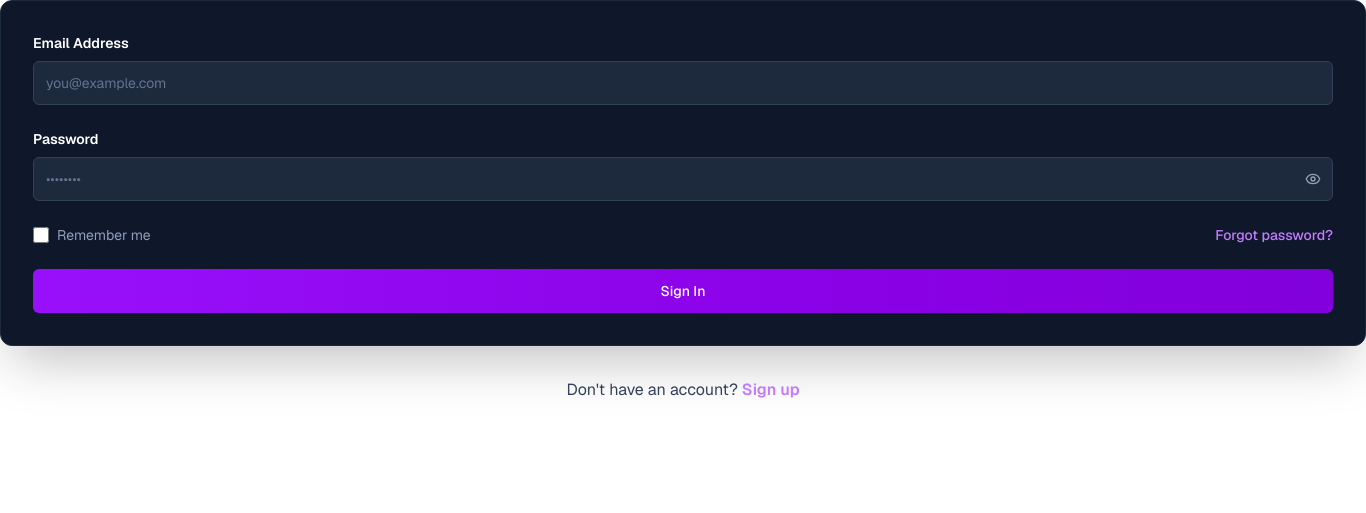
Test auth component › Test the signup is visible
Click the button "Sign up".
click(771, 390)  # box [742,378,800,402]
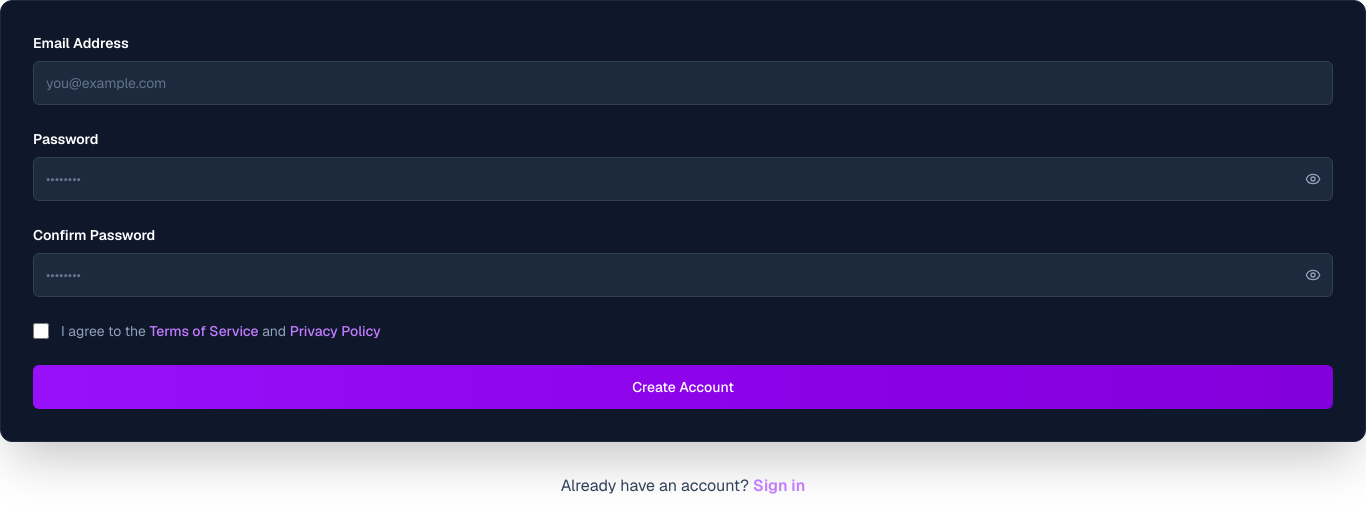
Result: the text "Already have an account?" is shown at [561,475,753,496]
